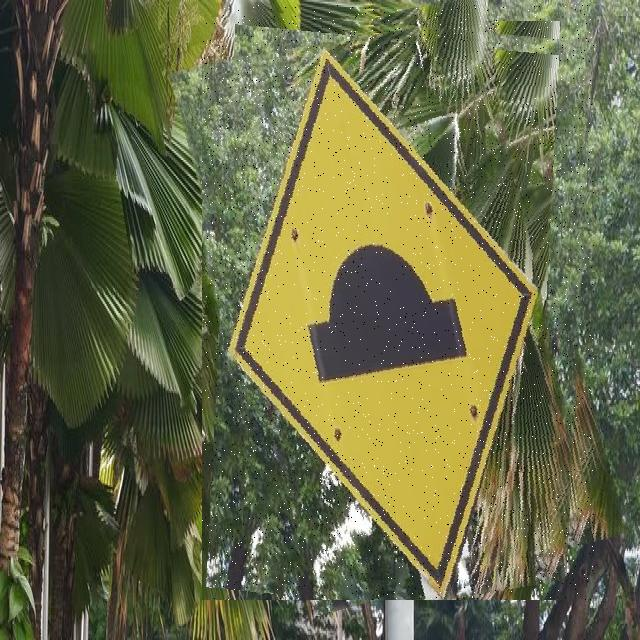hump: (202, 5, 594, 600)
